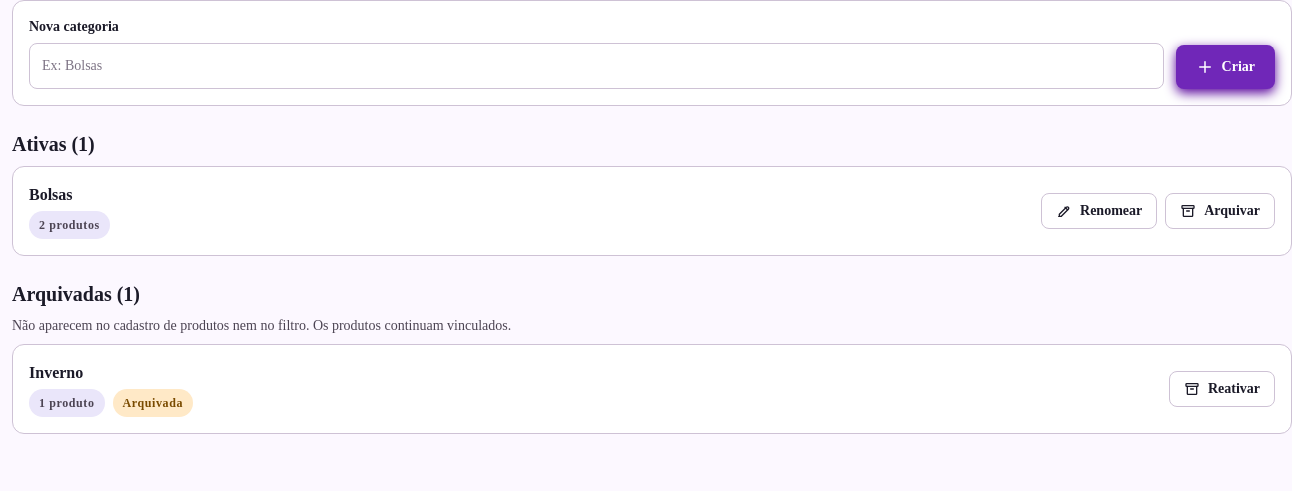
CategoryManager › renames inline and shows the duplicate-name error on the field
Click the button with aria-label "Renomear Bolsas" at (1099, 211), box left=1041, top=193, right=1157, bottom=229
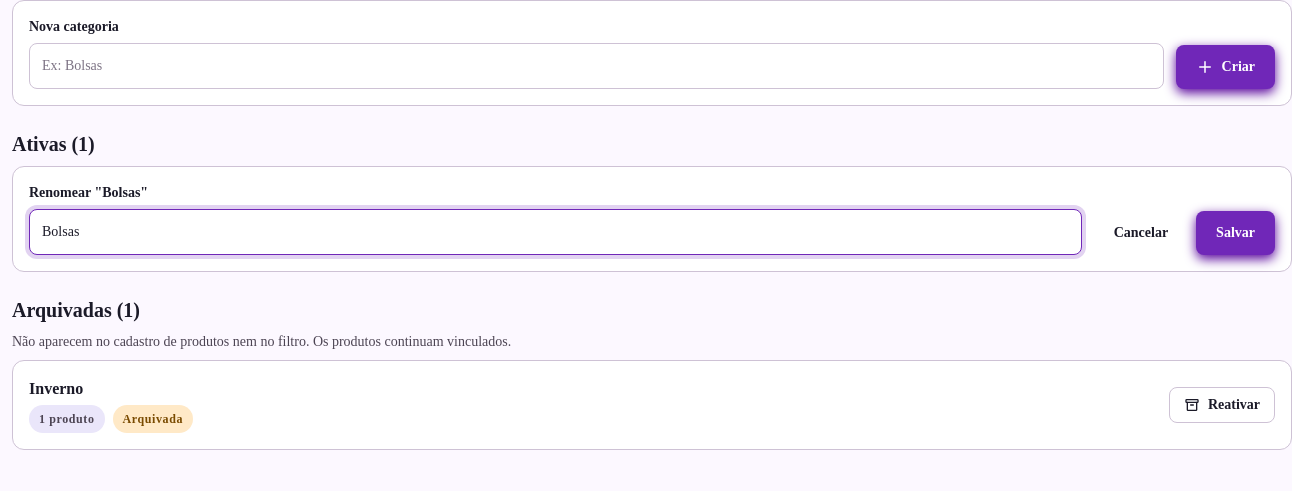
Replace the text in the field labelled "Renomear \"Bolsas\"" with "Inverno" at (555, 232), box left=29, top=209, right=1082, bottom=255
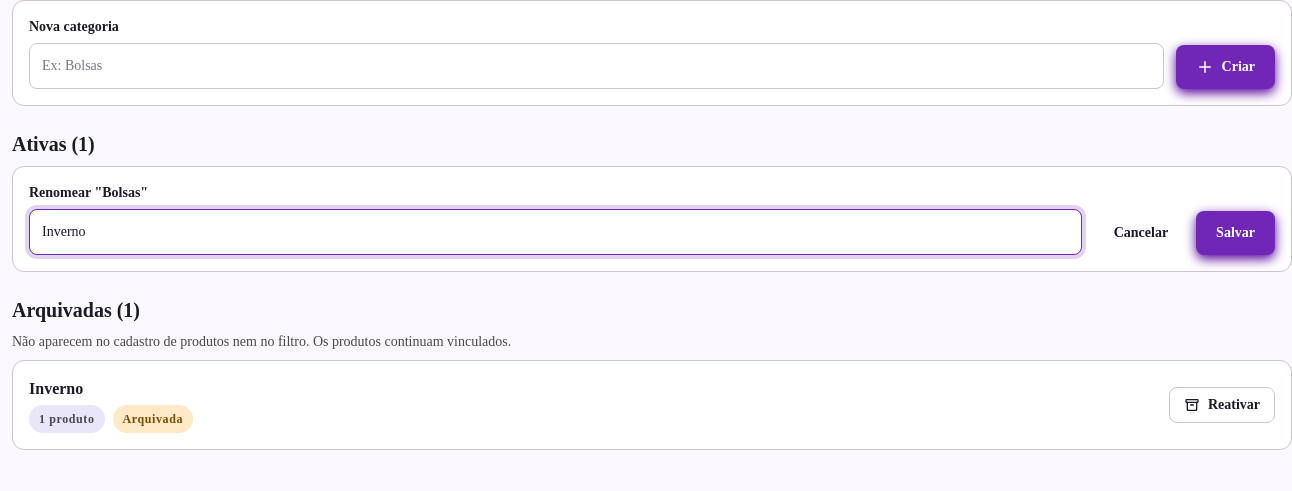
Click the button "Salvar" at (1236, 233), box left=1196, top=211, right=1275, bottom=255
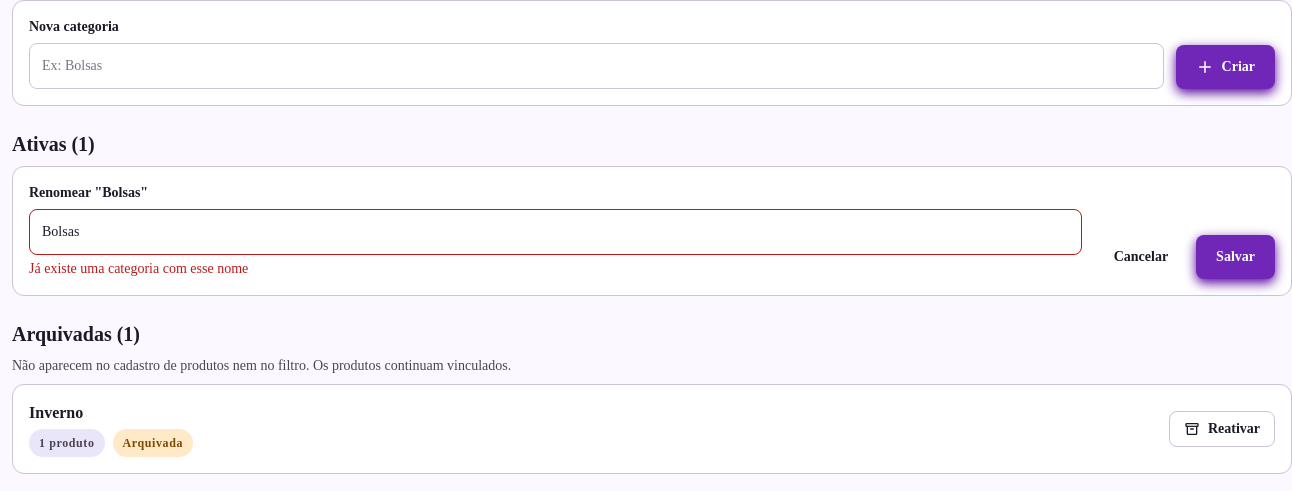
expect the text "Já existe uma categoria com esse nome" is shown: met, box left=29, top=261, right=248, bottom=276
